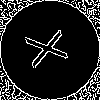X: (25, 25, 78, 70)
